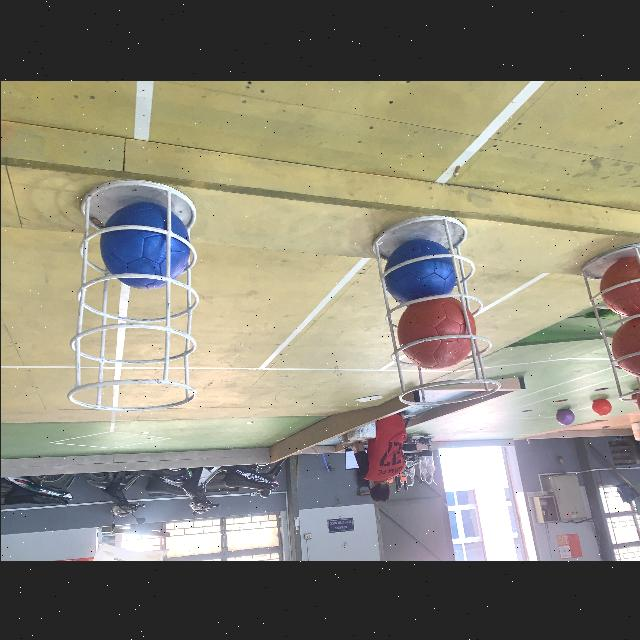B: (97, 201, 189, 287), (382, 236, 456, 306)
R: (394, 296, 476, 369), (598, 256, 640, 316), (610, 314, 640, 378), (636, 376, 640, 424)
